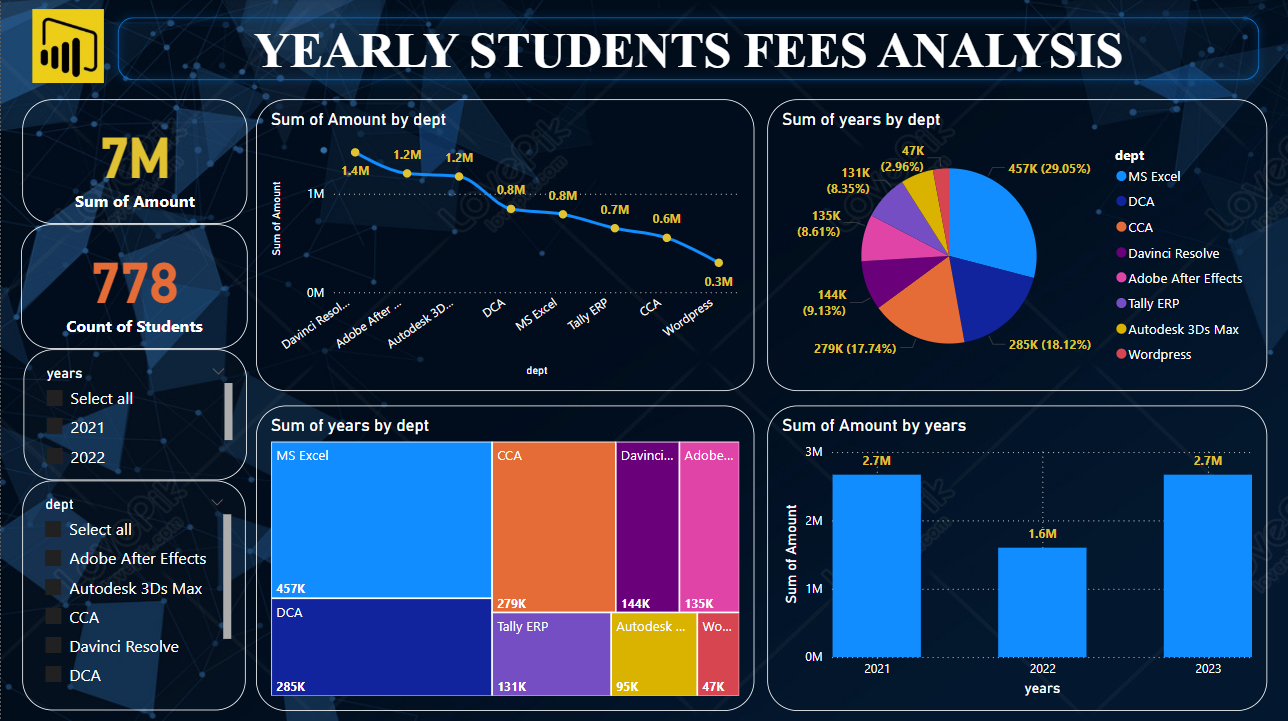

What the dashboard file says about the page in this screenshot:
{"tool":"powerbi","page":{"name":"Page 1","canvas":[1280,720],"ordinal":0},"visuals":[{"type":"lineChart","fields":{"Category":["Student Course Details.dept"],"Y":["Sum(Student Course Details.Amount)"]},"box":[253.3,101.3,496,290.7],"z":0},{"type":"pieChart","fields":{"Category":["Student Course Details.dept"],"Y":["Sum(Student Course Details.years)"]},"box":[762.7,101.3,497.3,290.7],"z":1000},{"type":"clusteredColumnChart","fields":{"Category":["Student Course Details.years"],"Y":["Sum(Student Course Details.Amount)"]},"box":[762.7,405.3,497.3,304],"z":2000},{"type":"card","fields":{"Values":["Sum(Student Course Details.Amount)"]},"box":[21.4,101.2,223.8,123.8],"z":3000},{"type":"treemap","fields":{"Group":["Student Course Details.dept"],"Values":["Sum(Student Course Details.years)"]},"box":[253.3,405.3,496,304],"z":4000},{"type":"slicer","fields":{"Values":["Student Course Details.years"]},"box":[22.3,349.2,222.6,130.8],"z":5000},{"type":"slicer","fields":{"Values":["Student Course Details.dept"]},"box":[21.1,480.2,222.7,228.9],"z":6000},{"type":"shape","box":[108,10.7,1152,78.7],"z":7000},{"type":"image","box":[0,6.7,133,83.3],"z":8000},{"type":"card","fields":{"Values":["CountNonNull(Student Course Details.roll  no)"]},"box":[19.5,225.4,225.4,123.8],"z":9000}]}

Visuals, with their boxes in screenshot pixels (x1, y1, x2, y2), scaled from the page's 1280x720 canvas onto the 1288x721 screenshot:
lineChart - Student Course Details.dept x Sum(Student Course Details.Amount): 255/101/754/393
pieChart - Student Course Details.dept x Sum(Student Course Details.years): 767/101/1268/393
clusteredColumnChart - Student Course Details.years x Sum(Student Course Details.Amount): 767/406/1268/710
card - Sum(Student Course Details.Amount): 22/101/247/225
treemap - Student Course Details.dept x Sum(Student Course Details.years): 255/406/754/710
slicer - Student Course Details.years: 22/350/246/481
slicer - Student Course Details.dept: 21/481/245/710
shape: 109/11/1268/90
image: 0/7/134/90
card - CountNonNull(Student Course Details.roll  no): 20/226/246/350
